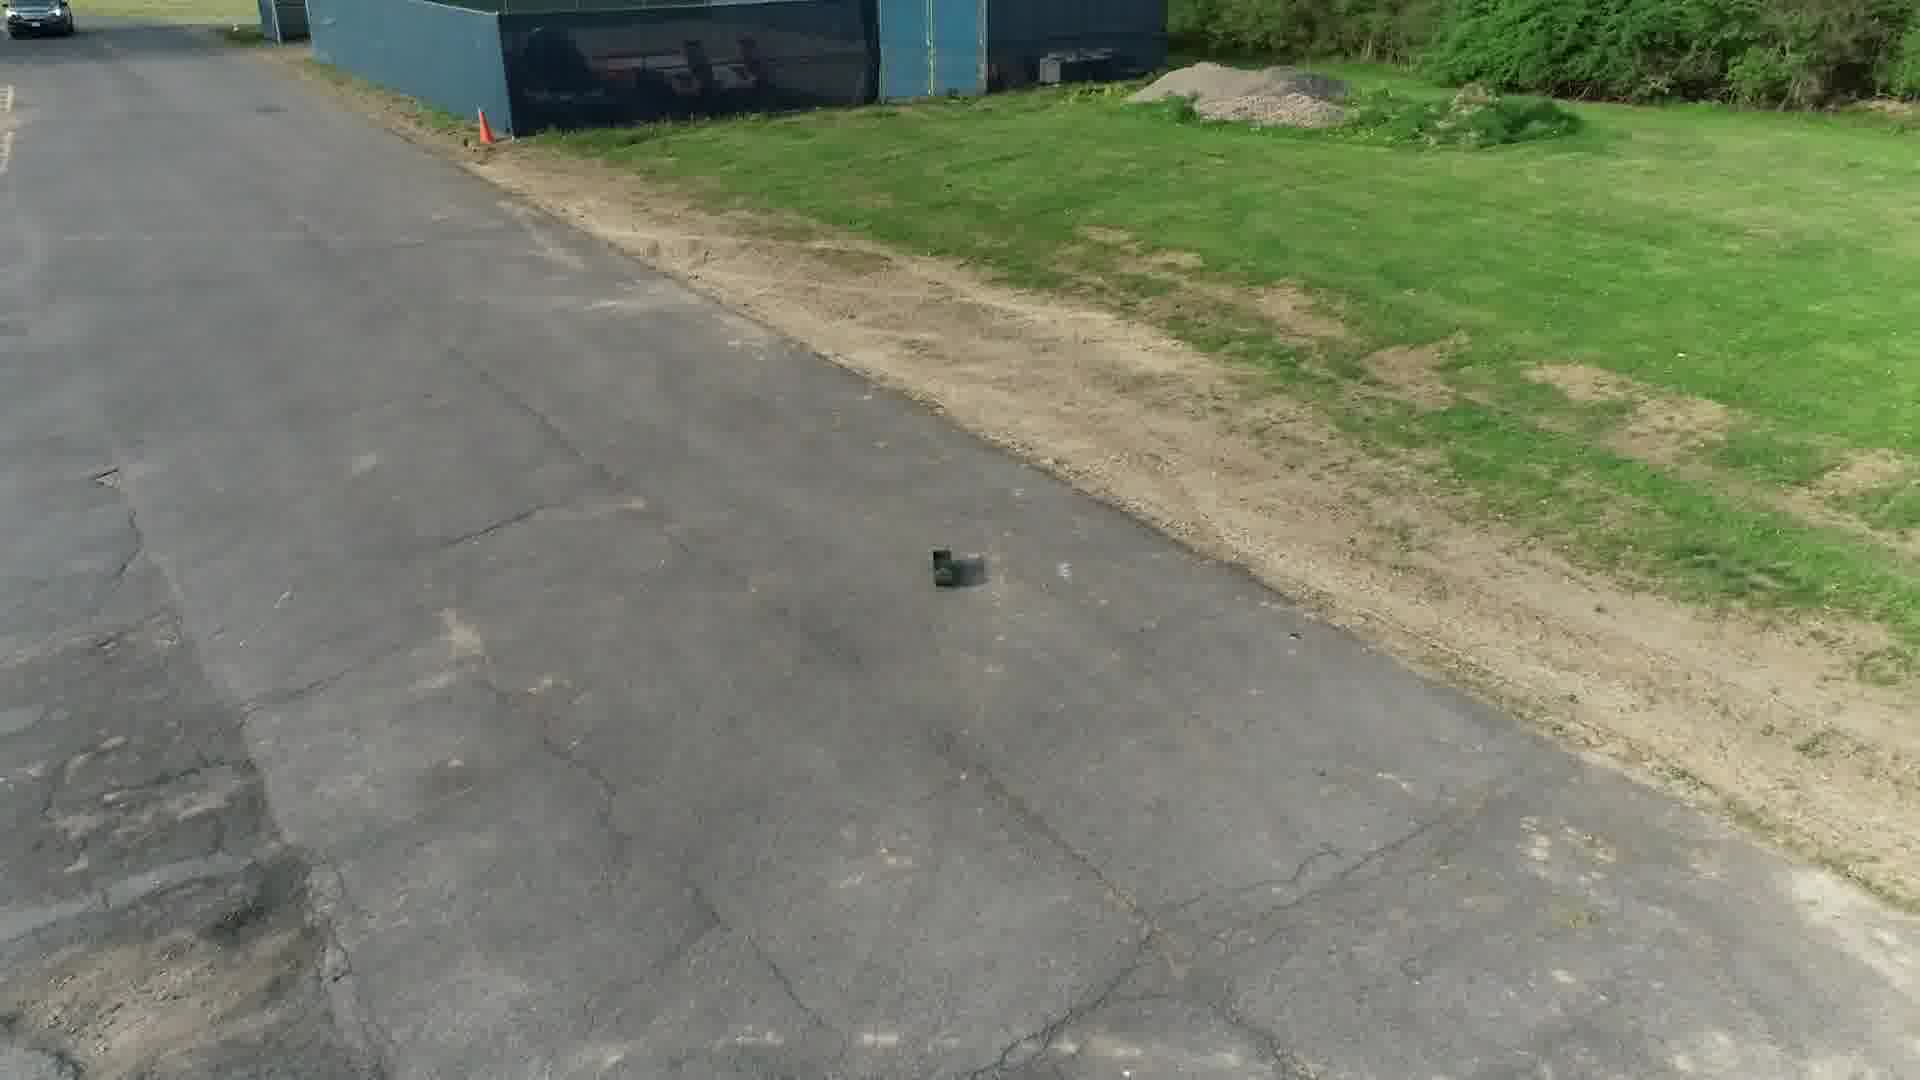transporter9: (927, 546, 960, 588)
